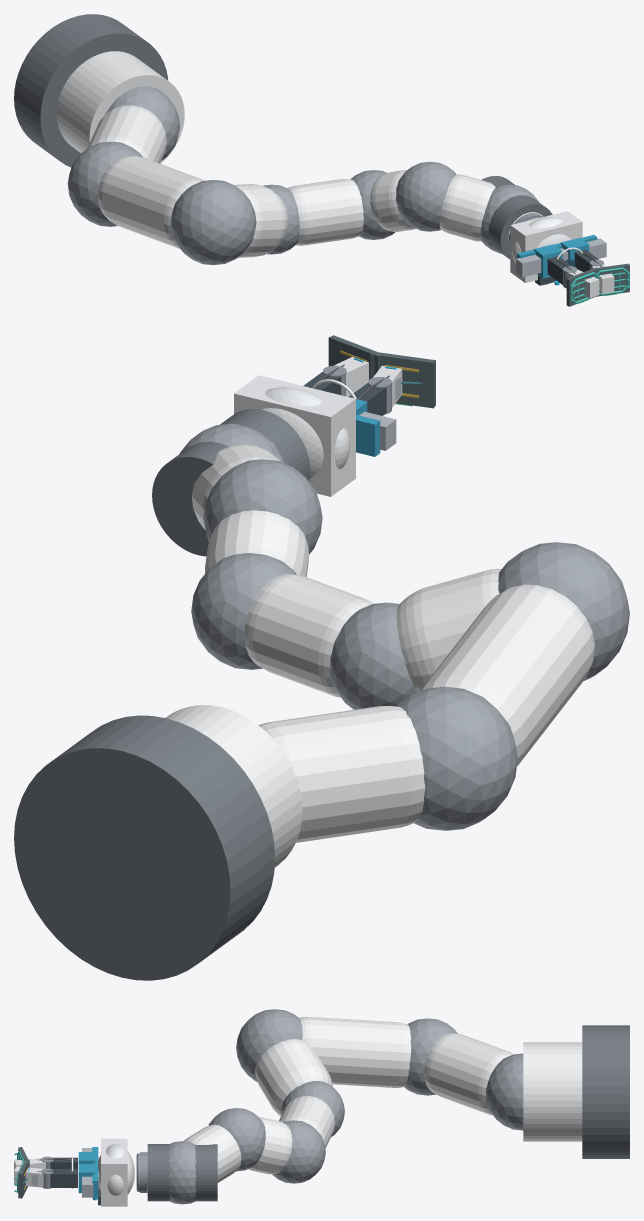
The model's file is dranmar_franka_exposure_assembly.glb.
3 views of the same model, one above another, from view 1: azimuth 30°, elevation 25°; view 2: azimuth 150°, elevation 25°; view 3: azimuth 270°, elevation 25° (orthographic). The views are drawn at different scales.
Parts seen in each view (by area): view 1: arm_base, arm_pedestal, arm_joint_02, arm_link_01, arm_link_03, arm_joint_05, arm_joint_01, arm_link_00, arm_link_05, arm_link_02, panda_link8_proxy, Mount_HousingCore (+10 smaller); view 2: arm_base, arm_link_00, arm_link_01, arm_joint_01, arm_link_03, arm_joint_02, arm_pedestal, arm_joint_03, arm_link_02, panda_link8_proxy, arm_joint_04, arm_joint_05 (+8 smaller); view 3: arm_base, arm_link_01, arm_pedestal, arm_link_00, arm_link_02, panda_link8_proxy, arm_joint_02, arm_joint_00, arm_joint_04, arm_joint_05, arm_joint_01, arm_joint_06 (+11 smaller).
Part boxes in pixels (left/top/right/bottom): arm_base: left=14, top=14, right=168, bottom=167; arm_pedestal: left=57, top=51, right=184, bottom=163; arm_joint_02: left=170, top=180, right=256, bottom=265; arm_link_01: left=97, top=155, right=204, bottom=248; arm_link_03: left=287, top=179, right=363, bottom=245; arm_joint_05: left=396, top=161, right=456, bottom=231; arm_joint_01: left=67, top=141, right=142, bottom=226; arm_link_00: left=87, top=105, right=166, bottom=163; arm_link_05: left=439, top=174, right=495, bottom=241; arm_link_02: left=234, top=184, right=288, bottom=257; panda_link8_proxy: left=481, top=176, right=552, bottom=259; Mount_HousingCore: left=510, top=211, right=582, bottom=282; arm_base: left=14, top=715, right=275, bottom=980; arm_link_00: left=258, top=706, right=425, bottom=842; arm_link_01: left=420, top=584, right=594, bottom=765; arm_joint_01: left=396, top=686, right=517, bottom=830; arm_link_03: left=244, top=574, right=374, bottom=697; arm_joint_02: left=498, top=542, right=629, bottom=680; arm_pedestal: left=165, top=705, right=302, bottom=867; arm_joint_03: left=330, top=602, right=416, bottom=709; arm_link_02: left=396, top=568, right=501, bottom=692; panda_link8_proxy: left=152, top=409, right=310, bottom=556; arm_joint_04: left=191, top=553, right=296, bottom=669; arm_joint_05: left=203, top=459, right=322, bottom=554; arm_base: left=582, top=1025, right=629, bottom=1158; arm_link_01: left=299, top=1016, right=411, bottom=1087; arm_pedestal: left=523, top=1042, right=582, bottom=1141; arm_link_00: left=424, top=1033, right=513, bottom=1115; arm_link_02: left=255, top=1039, right=332, bottom=1116; panda_link8_proxy: left=147, top=1144, right=217, bottom=1201; arm_joint_02: left=236, top=1009, right=302, bottom=1081; arm_joint_00: left=486, top=1053, right=523, bottom=1130; arm_joint_04: left=272, top=1120, right=325, bottom=1183; arm_joint_05: left=208, top=1108, right=265, bottom=1171; arm_joint_01: left=404, top=1018, right=457, bottom=1095; arm_joint_06: left=168, top=1141, right=196, bottom=1204.
Bounding box in the file's own units: 0.56 × 0.21 × 0.9672.
